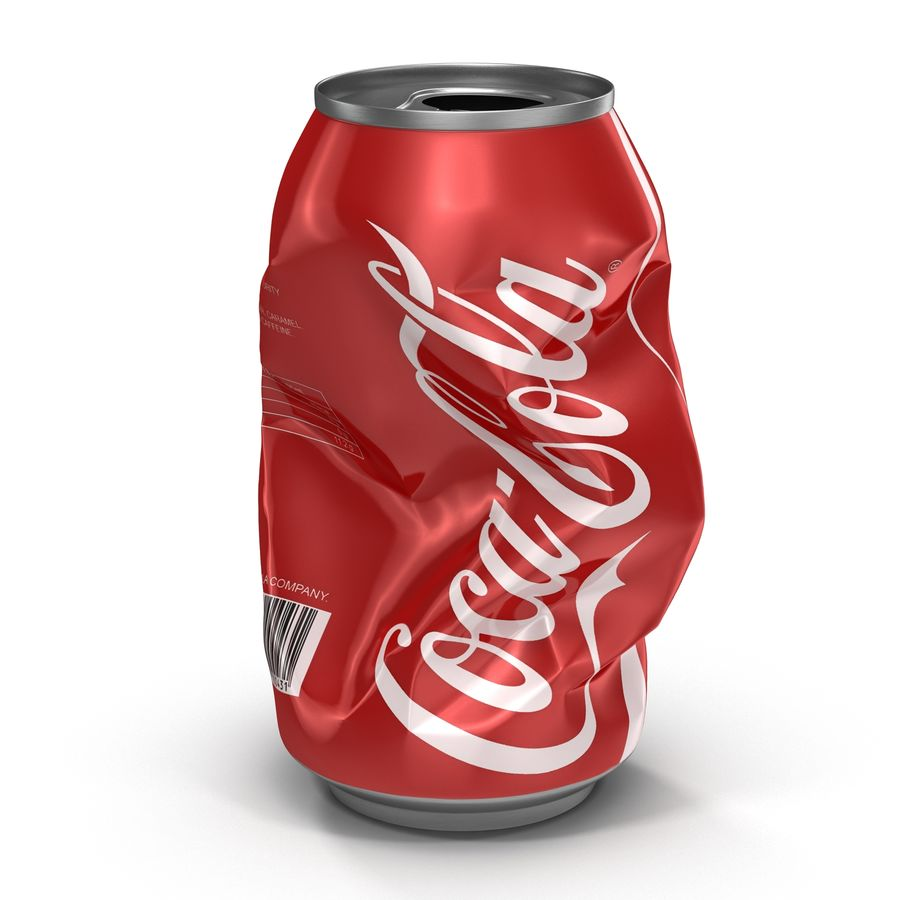can: (255, 59, 707, 835)
